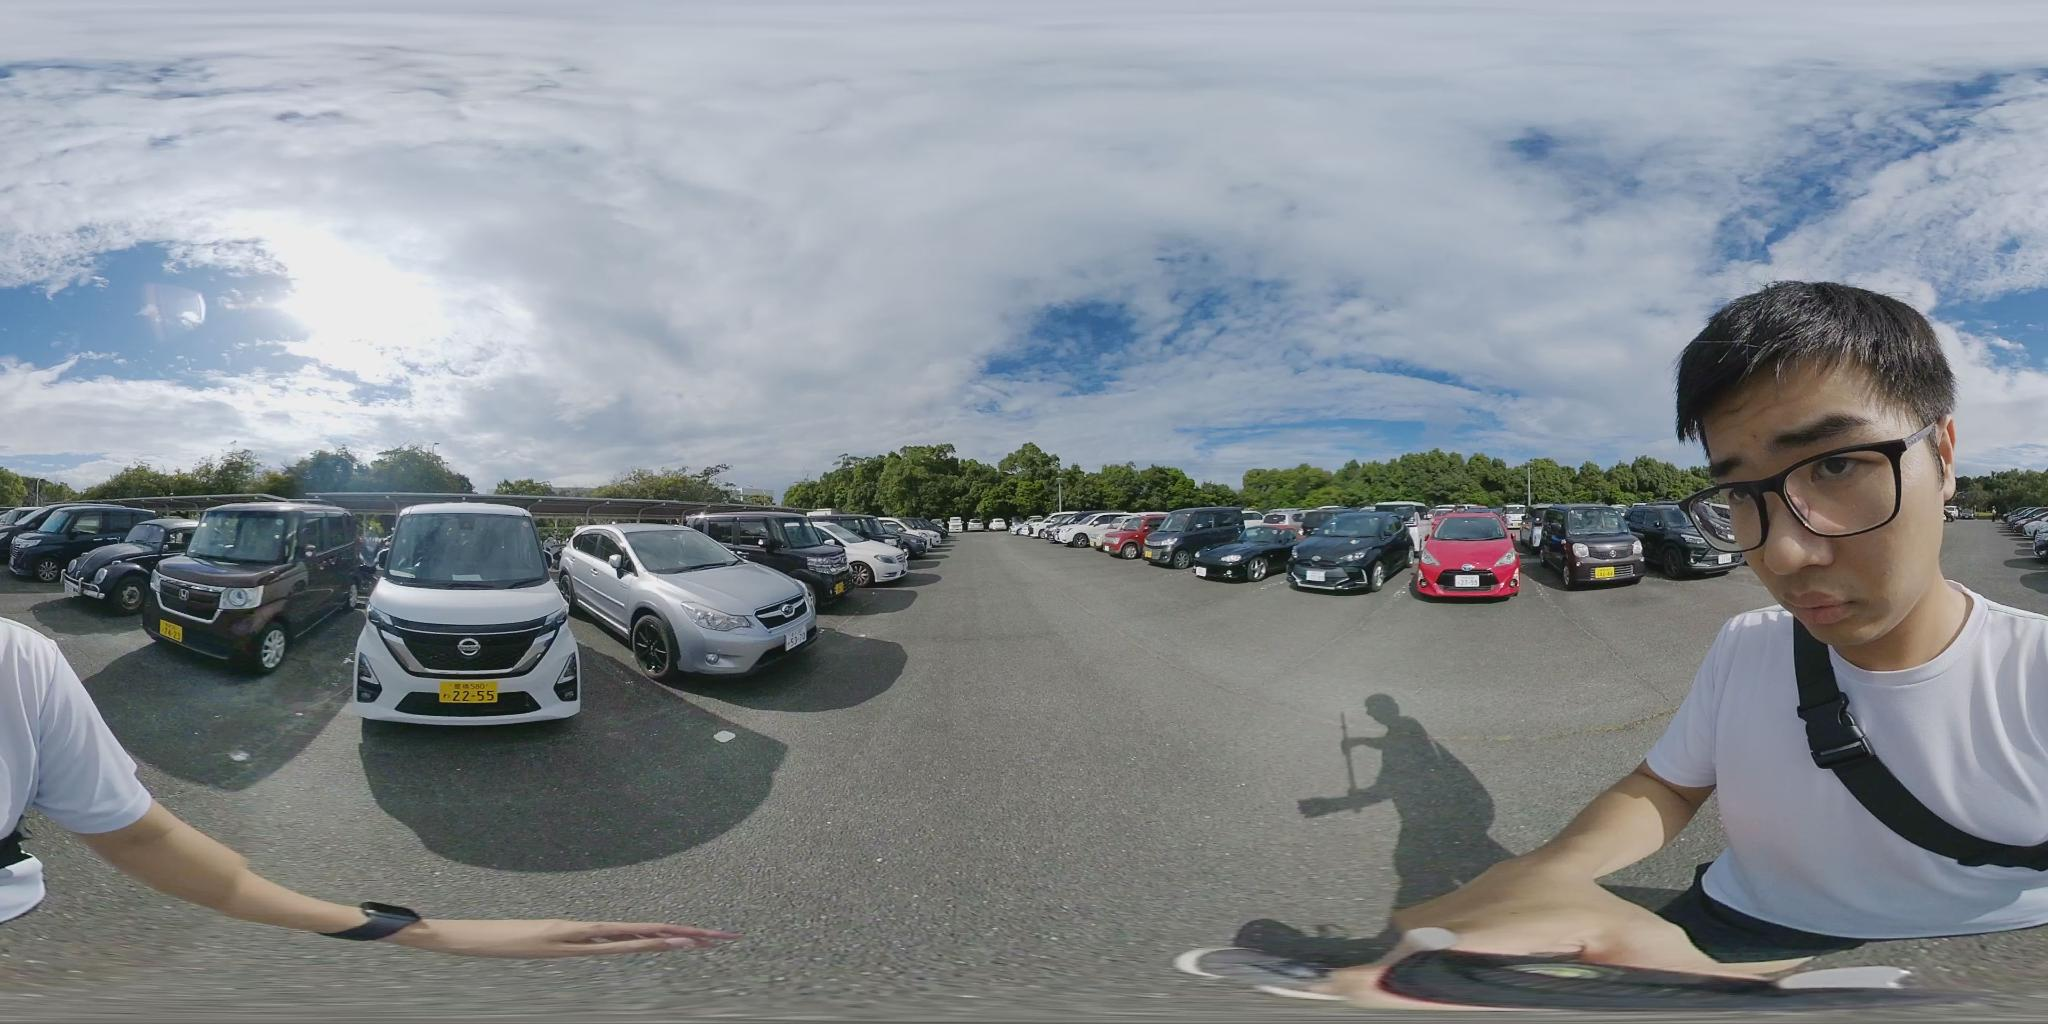car: (354, 499, 586, 724), (551, 521, 827, 683), (153, 505, 359, 648), (680, 513, 878, 601), (61, 522, 206, 616), (0, 507, 166, 584), (1520, 507, 1650, 590), (1408, 508, 1526, 600), (1293, 512, 1412, 593), (1624, 505, 1748, 583), (807, 516, 920, 579), (1153, 507, 1245, 567), (1195, 529, 1300, 581), (1095, 516, 1165, 558), (1048, 515, 1131, 547)
